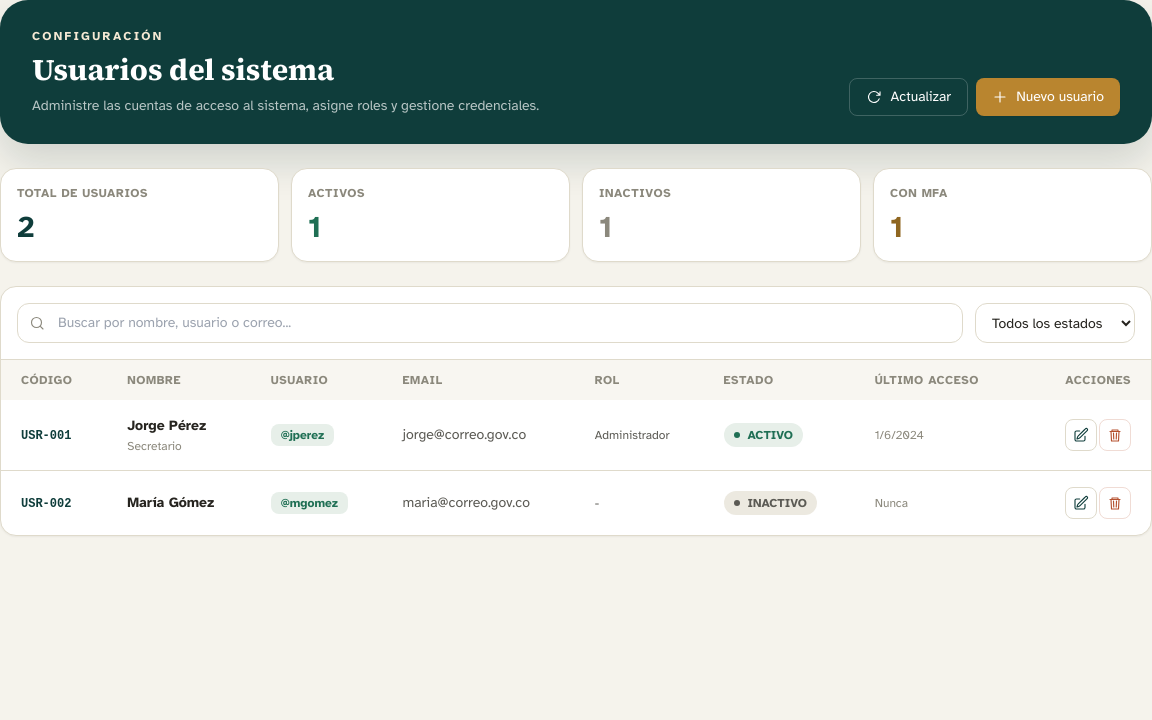
it: UsuariosPage › edita un usuario sin permitir cambiar código ni usuario
Check: the text "Jorge Pérez" is shown, box top-left (127, 417), bottom-right (206, 434)
Click the button named "Editar" in the row of "USR-001" at point(1081, 435), box top-left (1065, 419), bottom-right (1097, 451)
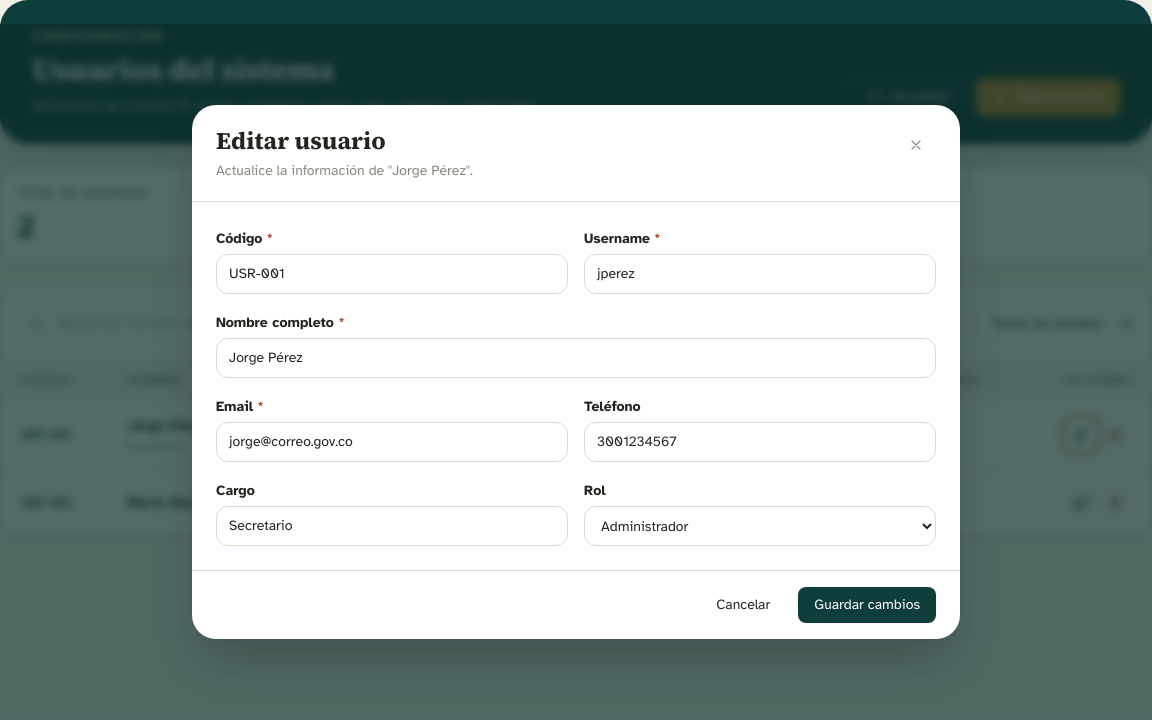
Check: the text "Actualice la información de \"Jorge Pérez\"." is shown, box top-left (216, 161), bottom-right (473, 181)
Check: the 1st field is disabled, box top-left (216, 254), bottom-right (568, 294)
Check: the field below "Username" is disabled, box top-left (584, 254), bottom-right (936, 294)
Replace the text in the field below "Nombre completo" with "Jorge Pérez Actualizado" at point(576, 358), box top-left (216, 338), bottom-right (936, 378)
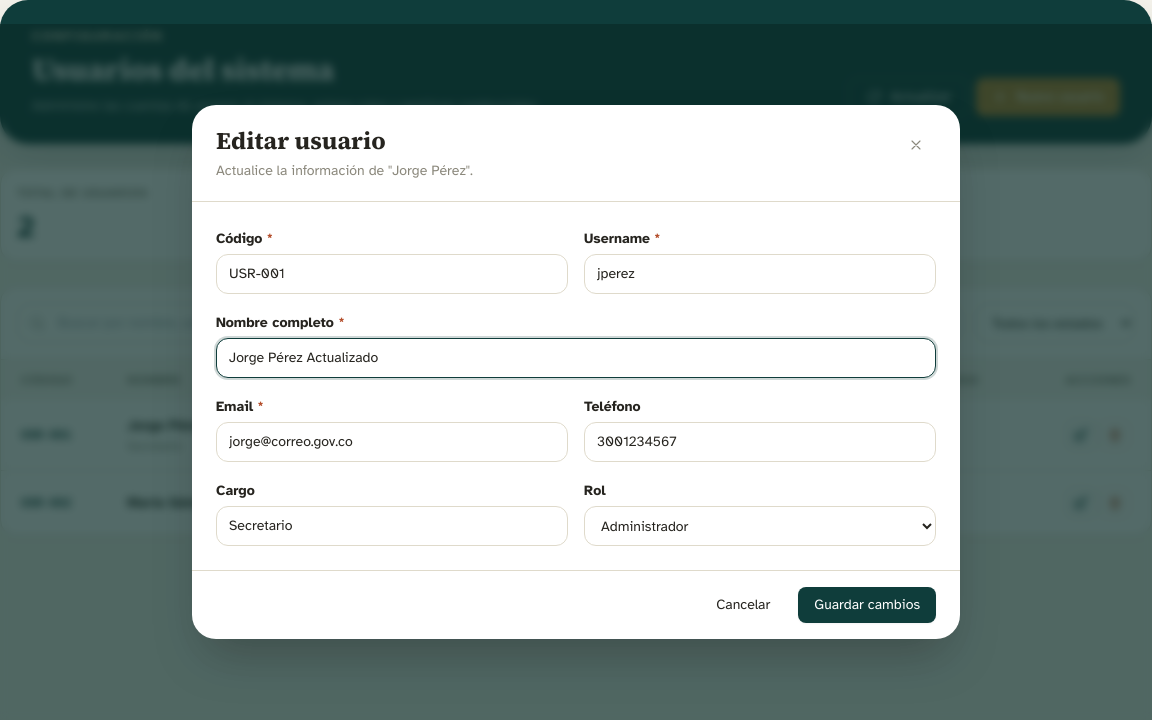
Click the button "Guardar cambios" at point(867, 605), box top-left (798, 587), bottom-right (936, 623)
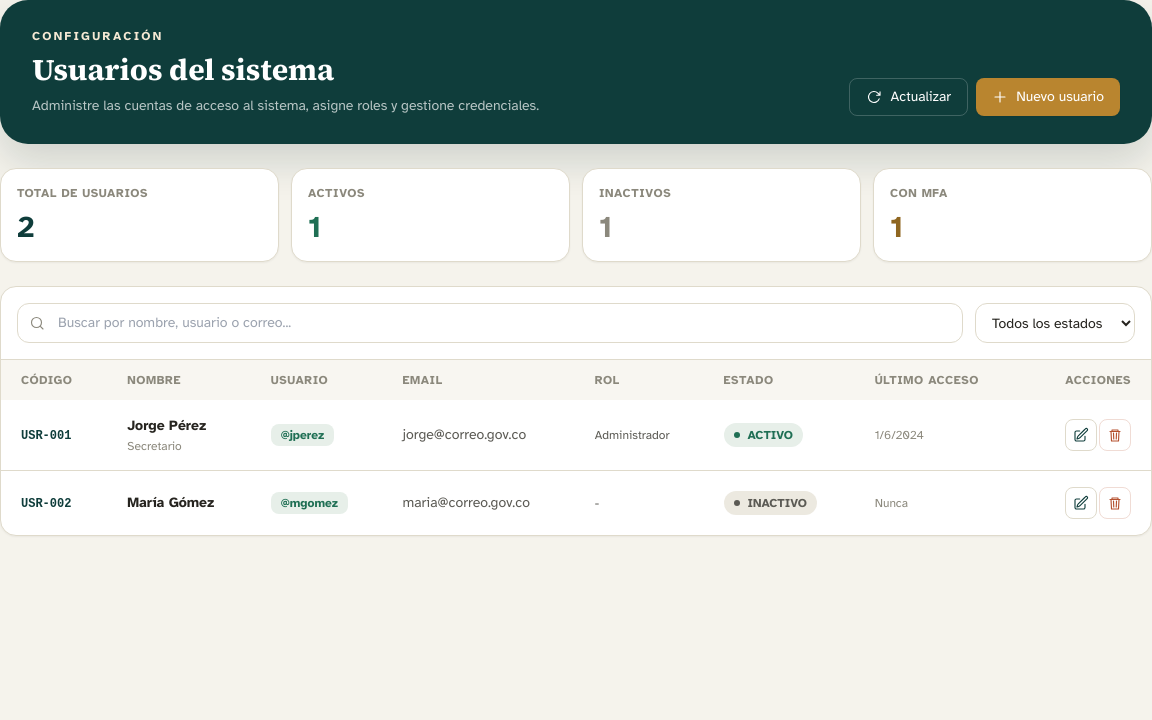
Check: the dialog is gone
